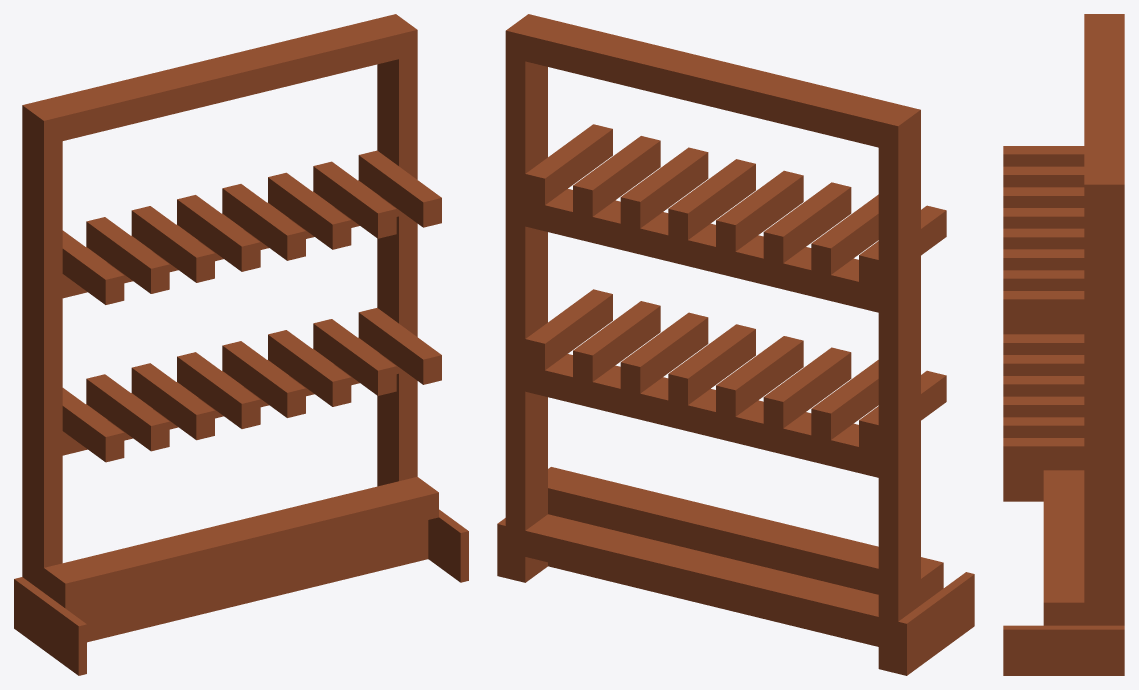
The model's file is Prop_Fantasy_Weapon_Rack_Timber_01.FBX.
The picture shows the model from 3 angles, left to right: view 1: azimuth 30°, elevation 25°; view 2: azimuth 150°, elevation 25°; view 3: azimuth 270°, elevation 25°; orthographic projection. The views are drawn at different scales.
Visible parts, largest first — view 1: Prop_Fantasy_Weapon_Rack_Timber_01; view 2: Prop_Fantasy_Weapon_Rack_Timber_01; view 3: Prop_Fantasy_Weapon_Rack_Timber_01.
Part boxes in pixels (left/top/right/bottom): Prop_Fantasy_Weapon_Rack_Timber_01: left=14, top=14, right=468, bottom=675; Prop_Fantasy_Weapon_Rack_Timber_01: left=497, top=14, right=974, bottom=675; Prop_Fantasy_Weapon_Rack_Timber_01: left=1003, top=14, right=1124, bottom=675.
Size of the model in its own units: 1678 by 2143 by 482.
